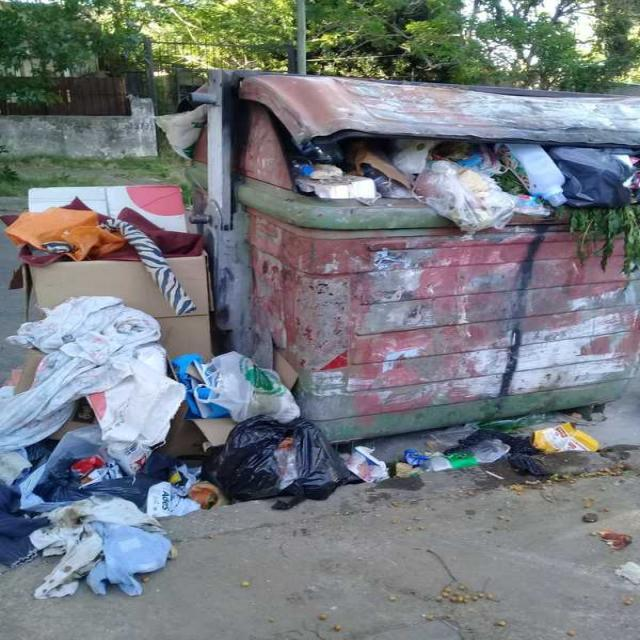garbage: (1, 174, 209, 608), (295, 132, 639, 242), (205, 344, 344, 514), (393, 404, 614, 507), (345, 438, 391, 492)
